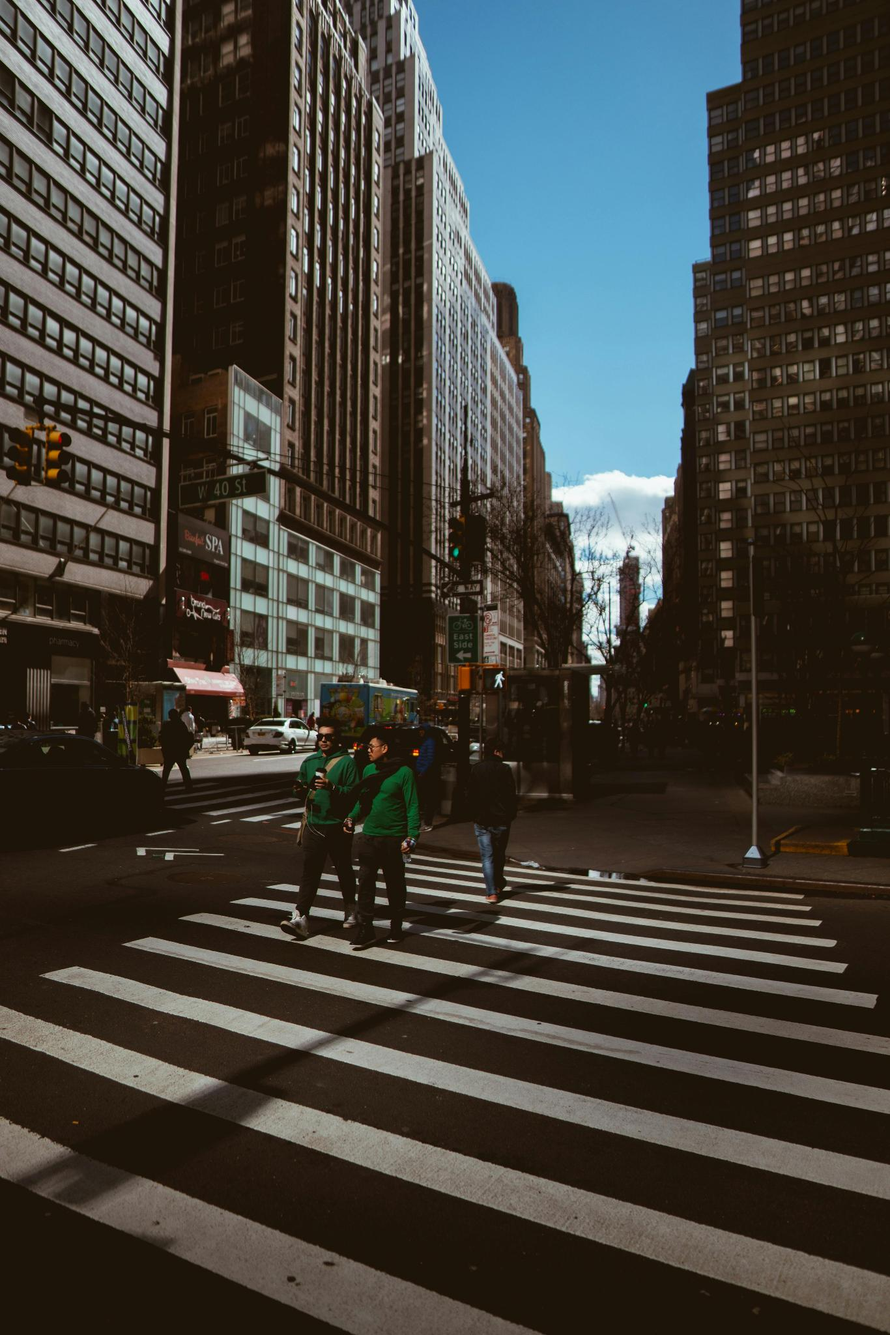car: (241, 717, 311, 756)
pedestrian: (286, 718, 357, 934), (350, 732, 421, 947), (473, 737, 520, 907), (162, 696, 197, 785)
